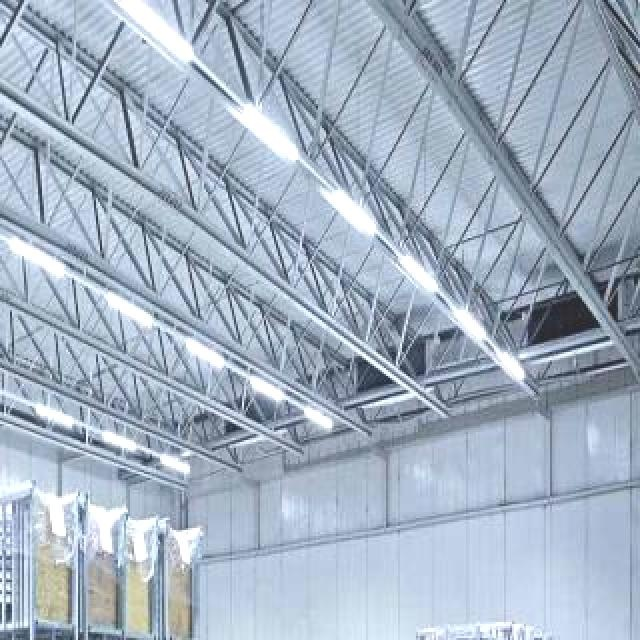fluorescent tube: (100, 0, 202, 71), (229, 95, 309, 173), (328, 180, 388, 249), (98, 284, 166, 336), (0, 232, 70, 280), (449, 298, 495, 355), (182, 331, 229, 384), (395, 249, 440, 302), (96, 418, 140, 460), (29, 396, 78, 433), (154, 437, 194, 479), (492, 349, 532, 389), (296, 404, 342, 438), (247, 367, 284, 405), (0, 366, 10, 402)
